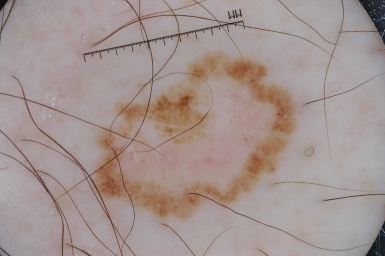seborrheic keratosis: (82, 47, 310, 229)
